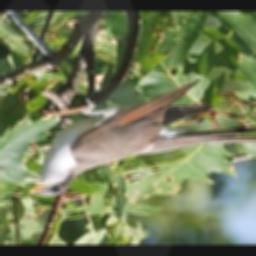Cuckoo: (29, 80, 256, 198)
